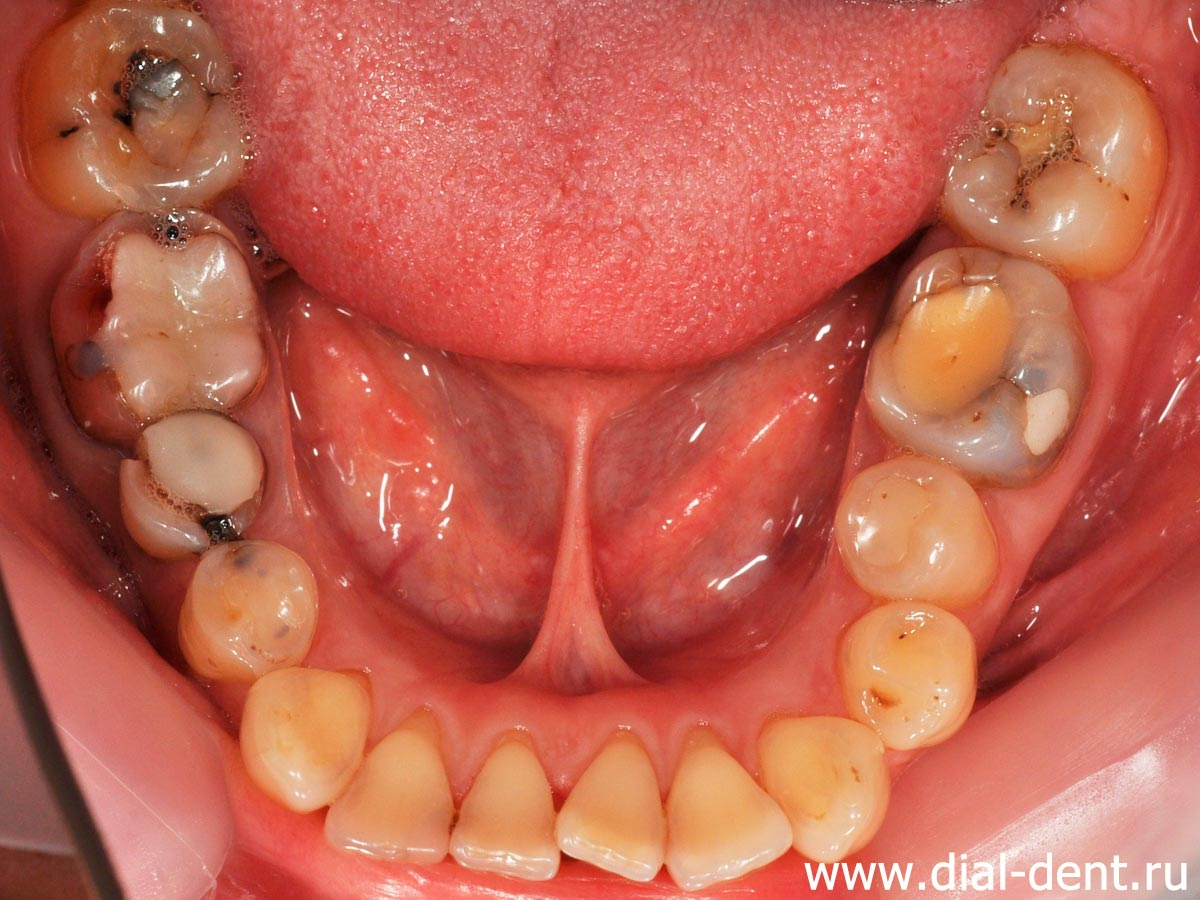LL1BC_decay: (845, 591, 979, 750)
LL1M_decay: (875, 252, 1087, 479)
LL2BC_healthy: (840, 459, 997, 600)
LL2M_decay: (953, 42, 1165, 266)
LLCI_healthy: (563, 739, 667, 883)
LLC_healthy: (756, 712, 892, 860)
LLLI_healthy: (663, 730, 791, 889)
LR1BC_decay: (180, 543, 330, 668)
LR1M_decay: (58, 211, 267, 411)
LR2BC_decay: (119, 413, 269, 547)
LR2M_decay: (24, 9, 252, 207)
LRCI_healthy: (463, 752, 560, 876)
LRC_healthy: (252, 670, 365, 808)
LRLI_healthy: (354, 705, 457, 878)
